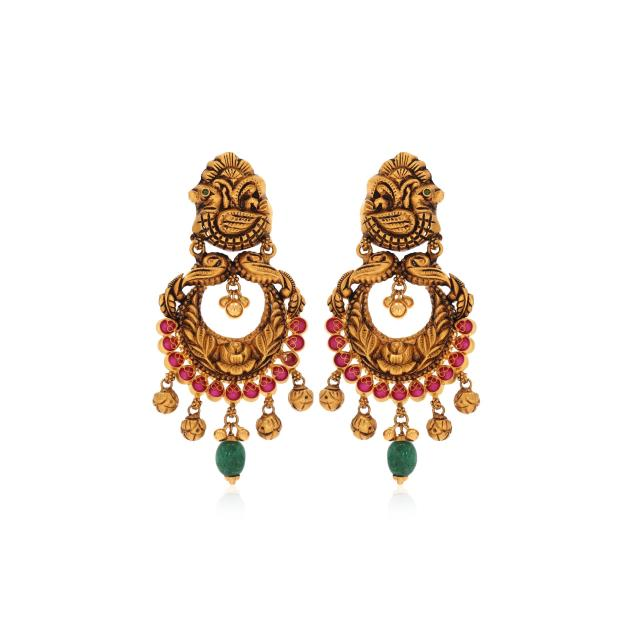missing gem: (281, 353, 296, 367)
